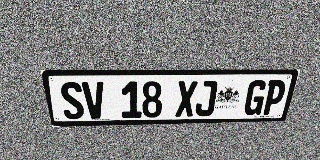1: (120, 81, 141, 118)
8: (142, 81, 163, 118)
G: (242, 80, 269, 115)
J: (194, 81, 218, 116)
P: (261, 80, 288, 115)
S: (58, 82, 85, 119)
V: (81, 81, 106, 119)
X: (175, 81, 198, 117)
